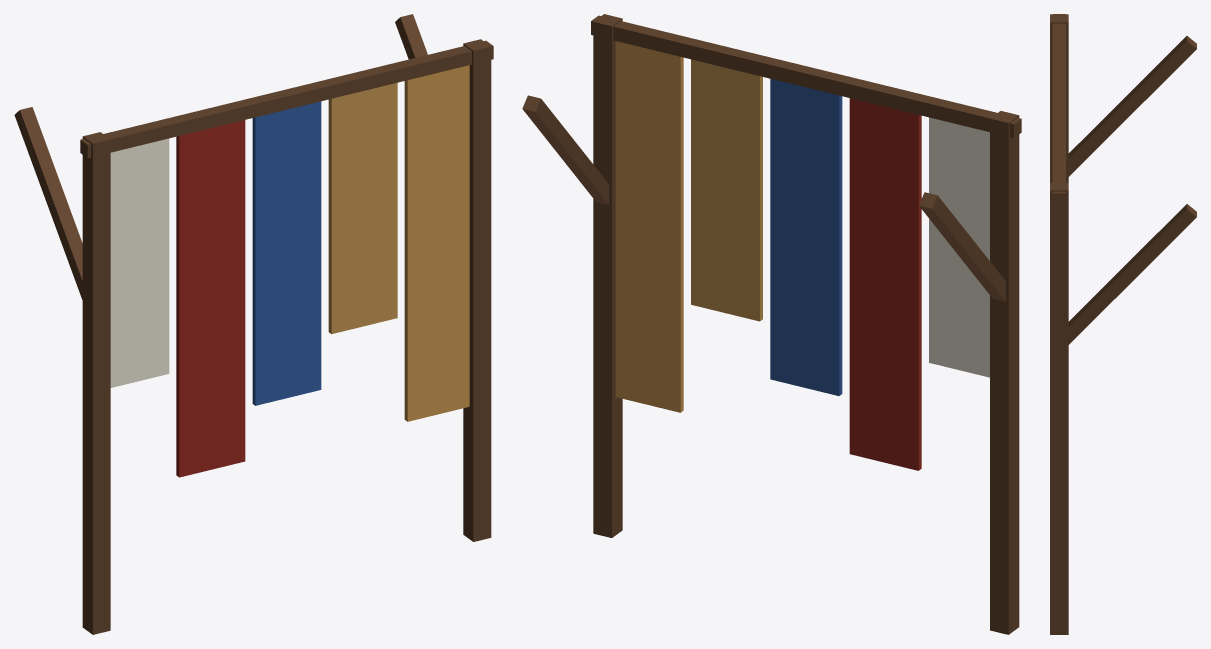
The model's file is rome_wares_cloth.glb.
The picture shows the model from 3 angles, left to right: view 1: azimuth 30°, elevation 25°; view 2: azimuth 150°, elevation 25°; view 3: azimuth 270°, elevation 25°; orthographic projection. The views are drawn at different scales.
Parts seen in each view (by area): view 1: rome_wares_cloth; view 2: rome_wares_cloth; view 3: rome_wares_cloth.
Boxes of the visible parts, box(x1,y1,x2,y2) form: rome_wares_cloth: box(14, 14, 493, 634); rome_wares_cloth: box(522, 14, 1021, 634); rome_wares_cloth: box(1050, 14, 1196, 634).
Bounding box in the file's own units: 1.6 × 1.85 × 0.5535.
